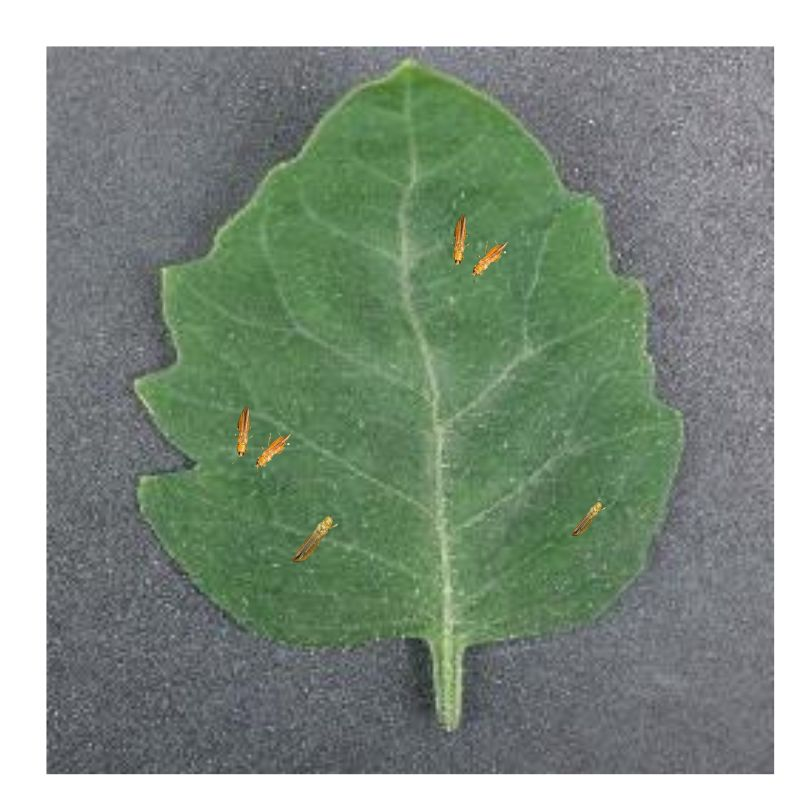thrips: (290, 514, 339, 562), (251, 431, 294, 471), (468, 237, 509, 278), (226, 407, 255, 462), (569, 497, 604, 539), (449, 214, 470, 267)
